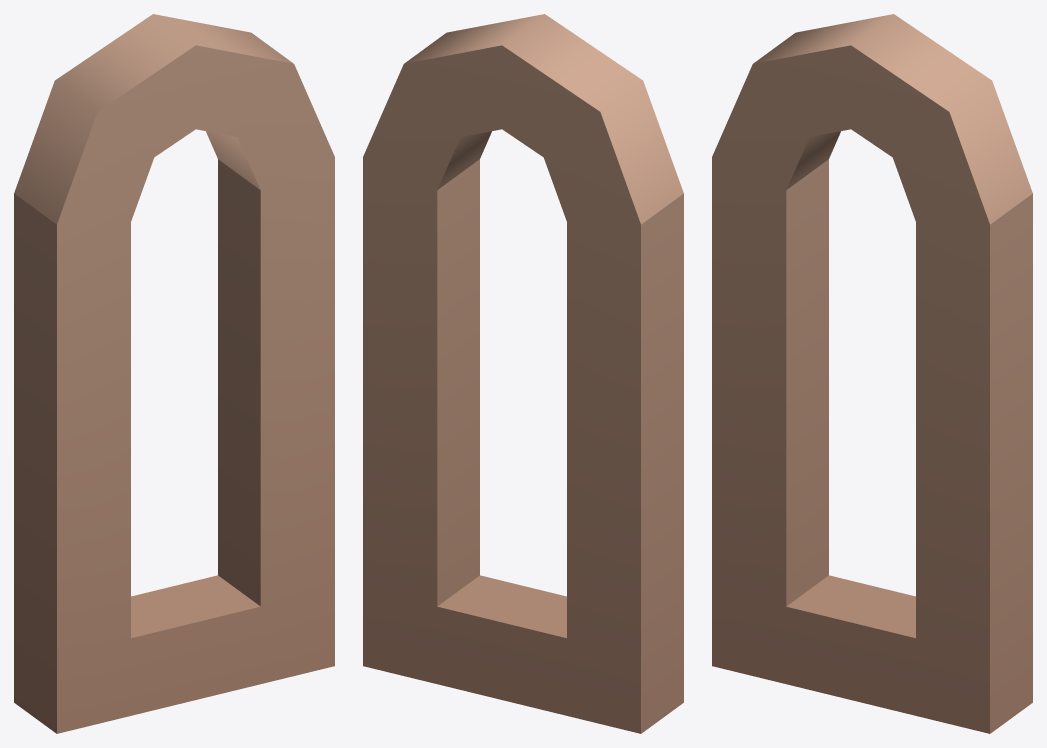
The model's file is window-brown-round-narrow.glb.
3 views of the same model, side by side, from view 1: azimuth 30°, elevation 25°; view 2: azimuth 150°, elevation 25°; view 3: azimuth 330°, elevation 25° (orthographic).
Parts seen in each view (by area): view 1: window-brown-round-narrow; view 2: window-brown-round-narrow; view 3: window-brown-round-narrow.
Part boxes in pixels (box(x1,y1,x2,y2)): window-brown-round-narrow: box(14, 14, 334, 733); window-brown-round-narrow: box(363, 14, 683, 733); window-brown-round-narrow: box(712, 14, 1032, 733).
Bounding box in the file's own units: 0.1875 × 0.4219 × 0.05.
